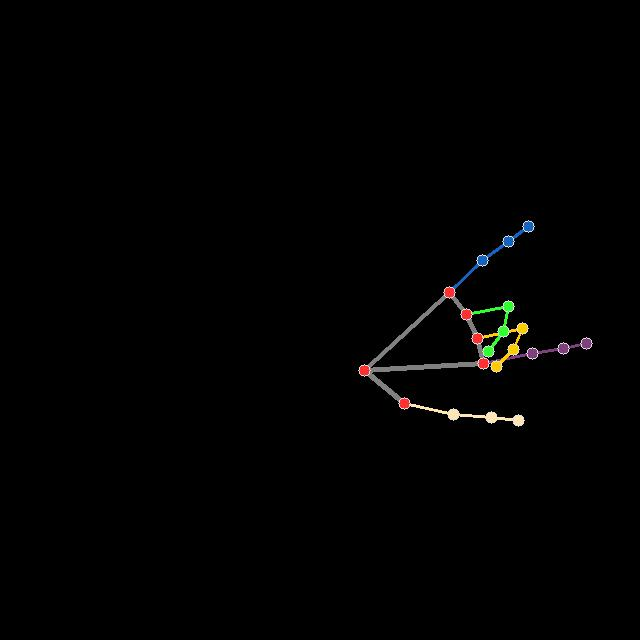spiderman: (359, 220, 591, 426)
